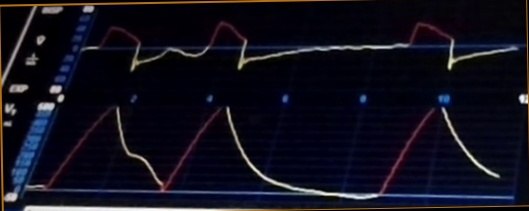Ineffective_effort Flow: (81, 20, 517, 83)
Ineffective_effort Volume: (30, 105, 501, 202)
